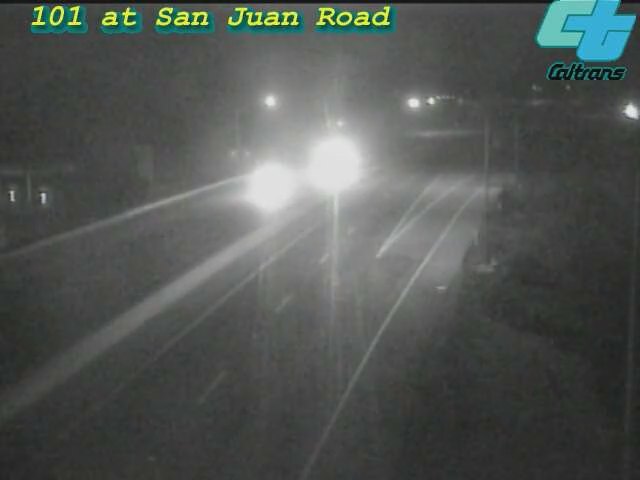vehicle: (233, 140, 313, 220), (288, 126, 368, 206), (608, 88, 640, 138)
